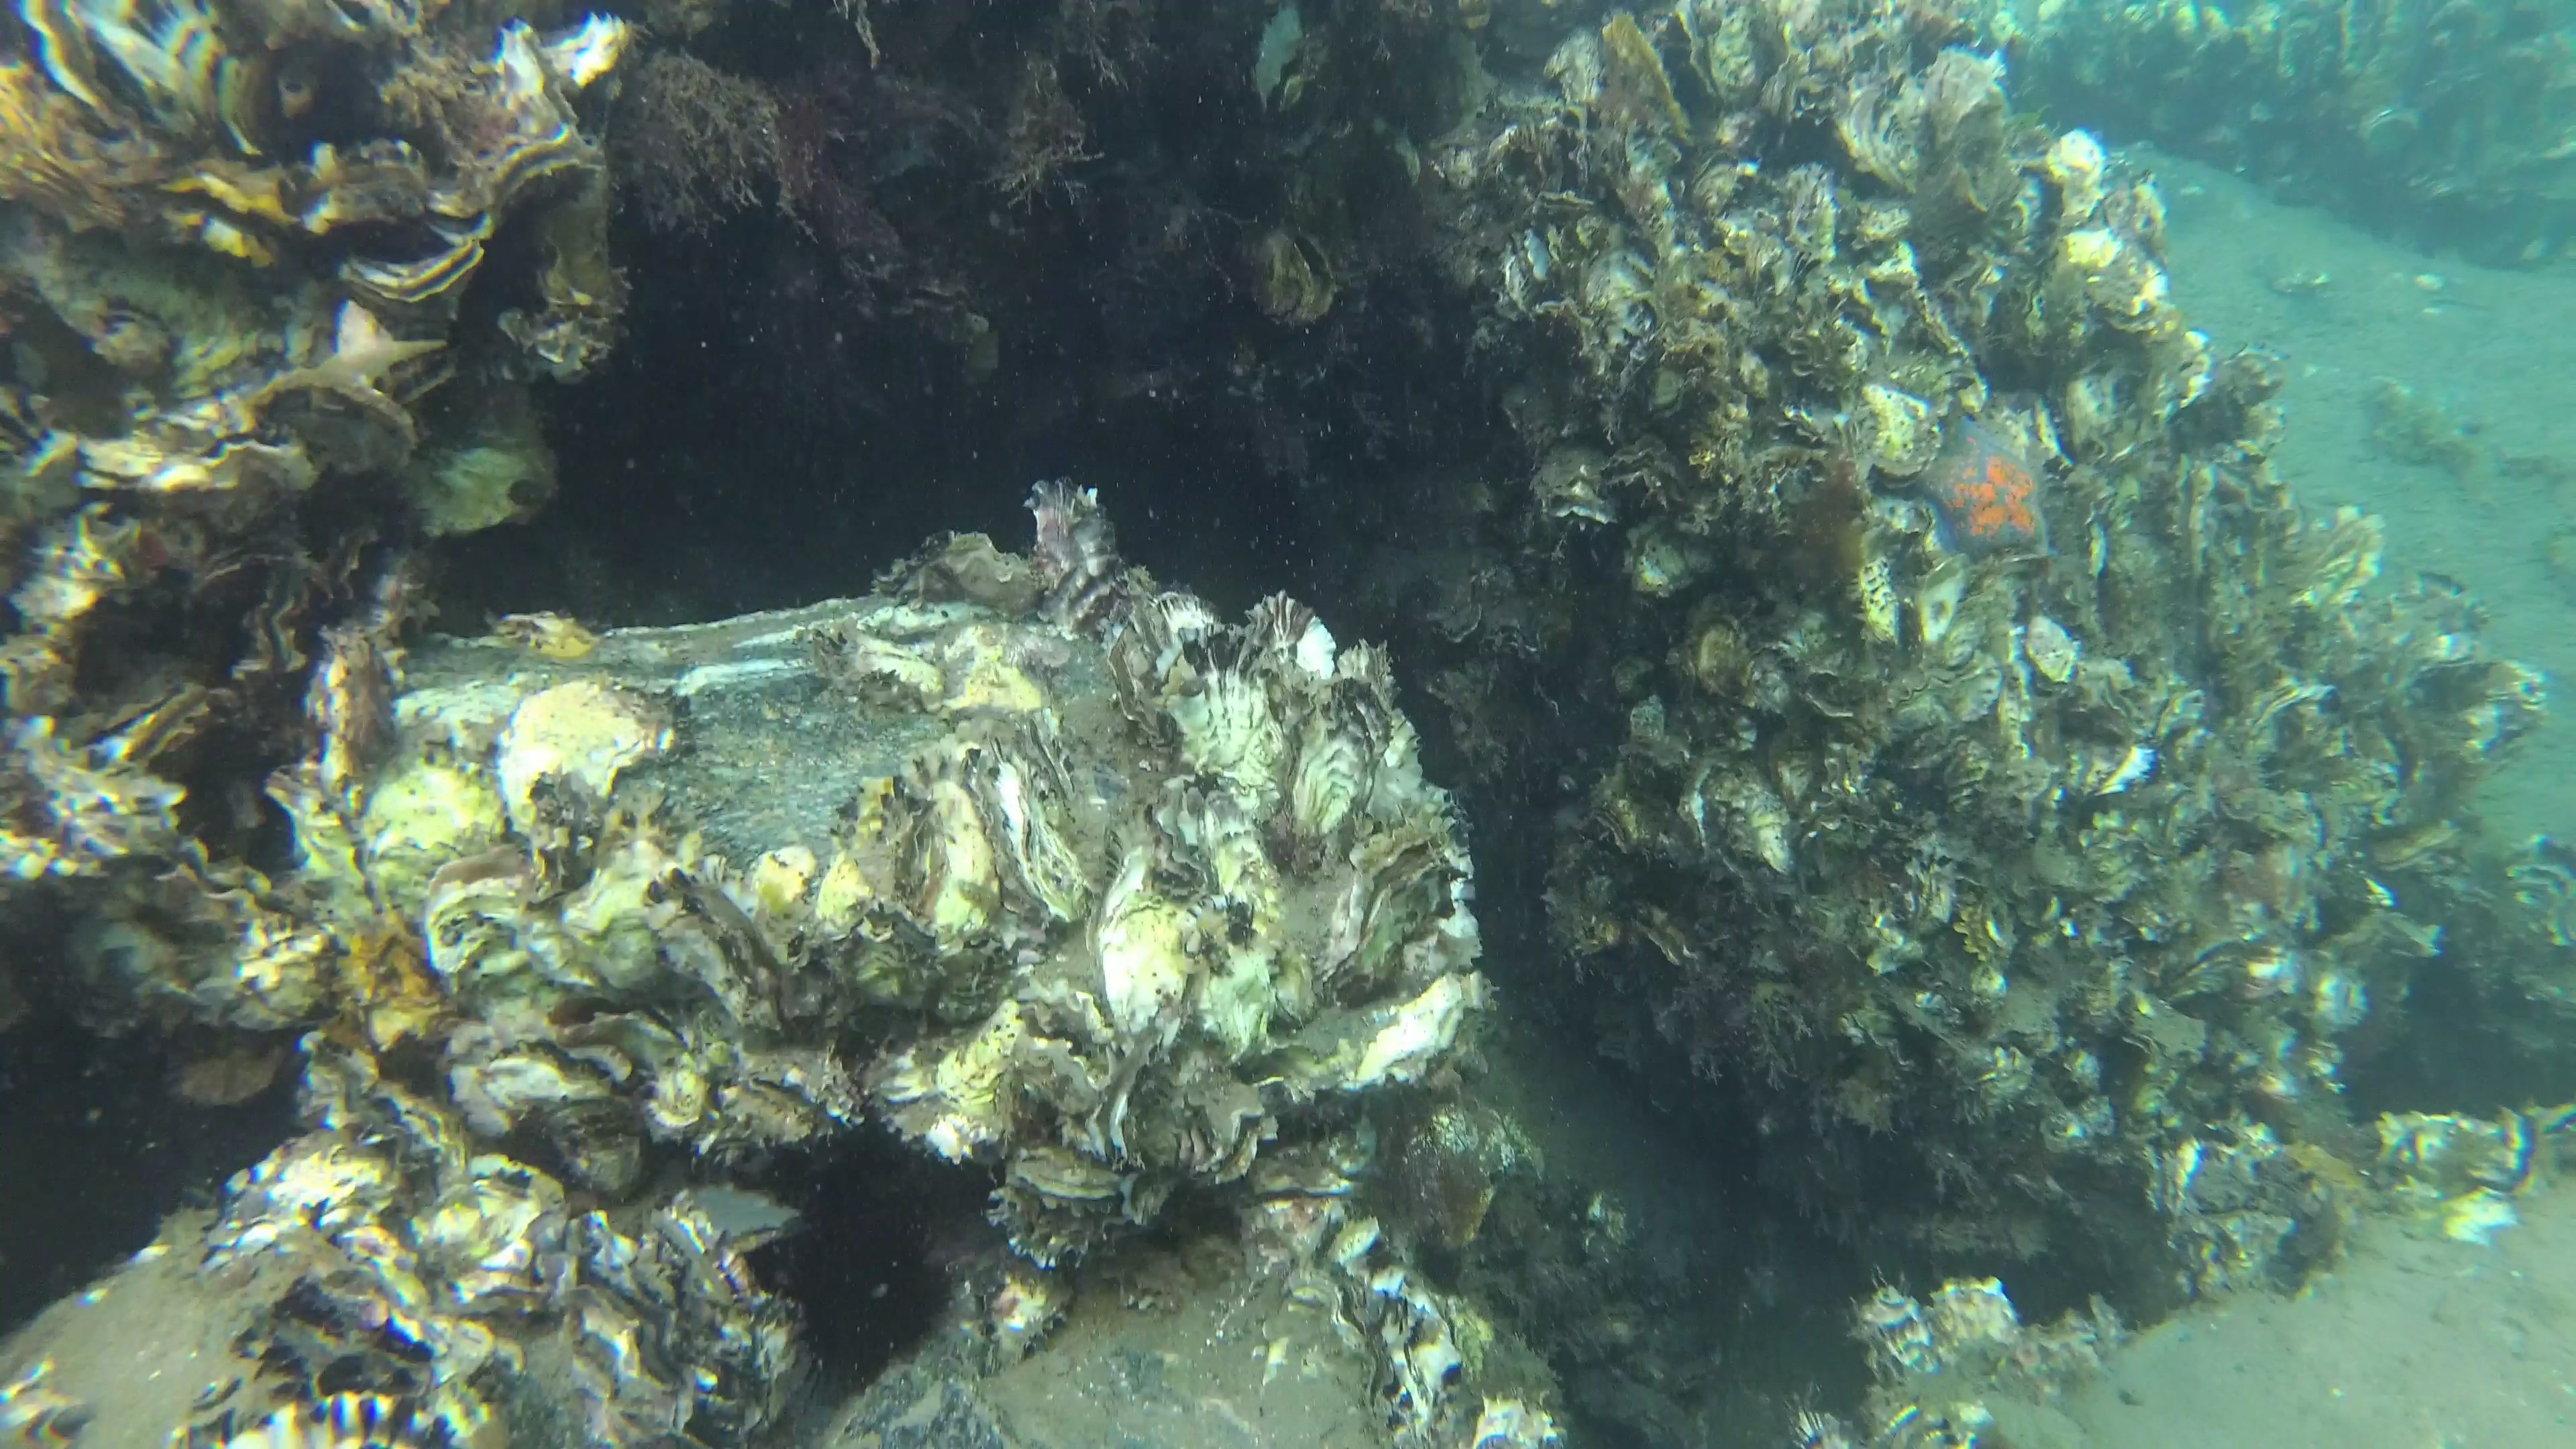echinus: (775, 1201, 961, 1414)
starfish: (1914, 403, 2058, 568)
